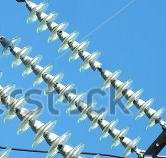gap: (79, 49, 121, 91)
